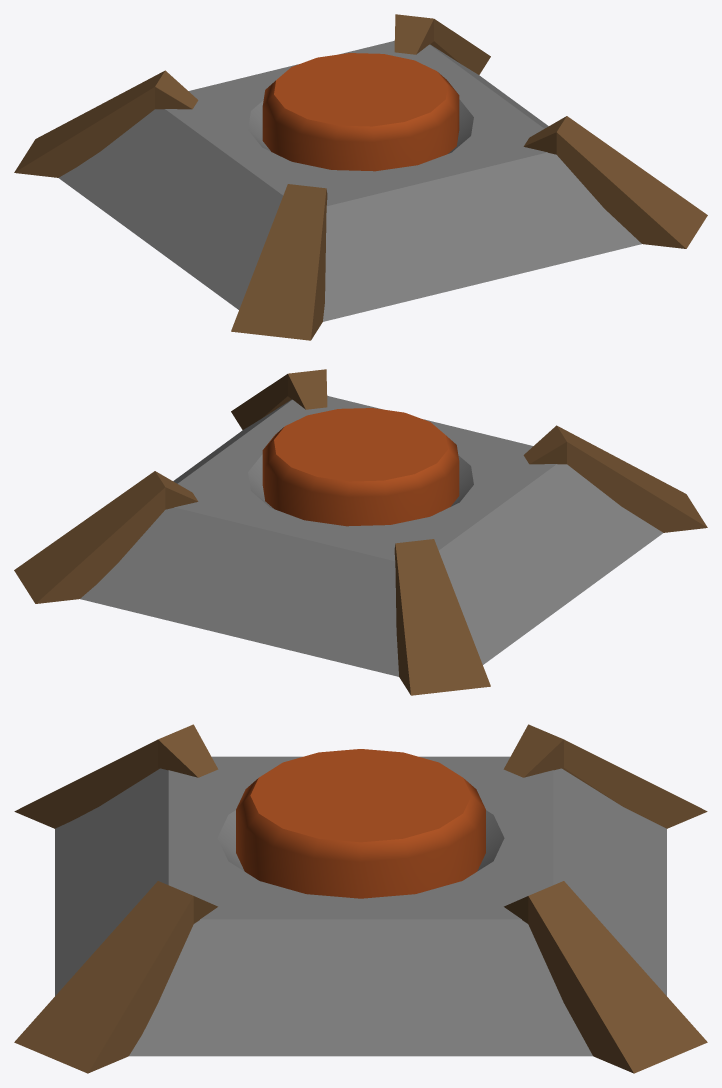
The model's file is pressureSwitch_old.fbx.
3 views of the same model, one above another, from view 1: azimuth 30°, elevation 25°; view 2: azimuth 150°, elevation 25°; view 3: azimuth 270°, elevation 25° (orthographic). The views are drawn at different scales.
Visible parts, largest first — view 1: plateBase, button, sideBeam2, sideBeam3, sideBeam1, sideBeam4; view 2: plateBase, button, sideBeam1, sideBeam4, sideBeam2, sideBeam3; view 3: plateBase, button, sideBeam3, sideBeam4, sideBeam2, sideBeam1.
Boxes of the visible parts, x1=… form: plateBase: x1=59, y1=41, x2=641, y2=321; button: x1=262, y1=53, x2=459, y2=171; sideBeam2: x1=231, y1=184, x2=327, y2=340; sideBeam3: x1=523, y1=116, x2=707, y2=248; sideBeam1: x1=14, y1=70, x2=198, y2=177; sideBeam4: x1=394, y1=14, x2=490, y2=74; plateBase: x1=80, y1=396, x2=662, y2=676; button: x1=262, y1=408, x2=459, y2=526; sideBeam1: x1=394, y1=539, x2=490, y2=695; sideBeam4: x1=14, y1=471, x2=198, y2=603; sideBeam2: x1=523, y1=425, x2=707, y2=532; sideBeam3: x1=231, y1=369, x2=327, y2=429; plateBase: x1=55, y1=756, x2=666, y2=1056; button: x1=236, y1=749, x2=485, y2=898; sideBeam3: x1=14, y1=881, x2=217, y2=1073; sideBeam4: x1=504, y1=881, x2=707, y2=1073; sideBeam2: x1=14, y1=724, x2=218, y2=828; sideBeam1: x1=503, y1=724, x2=707, y2=828.
Size of the model in its own units: 0.9997 by 0.2089 by 0.9997.
